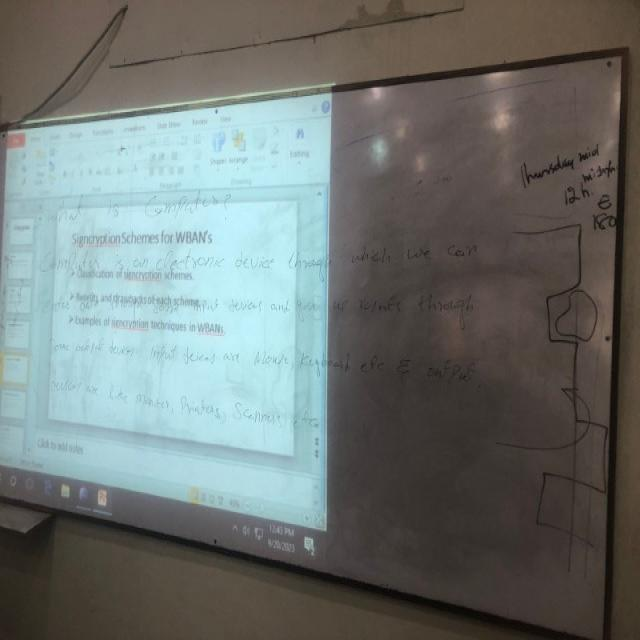Slide: (3, 98, 332, 563)
White-board: (2, 47, 623, 634)
